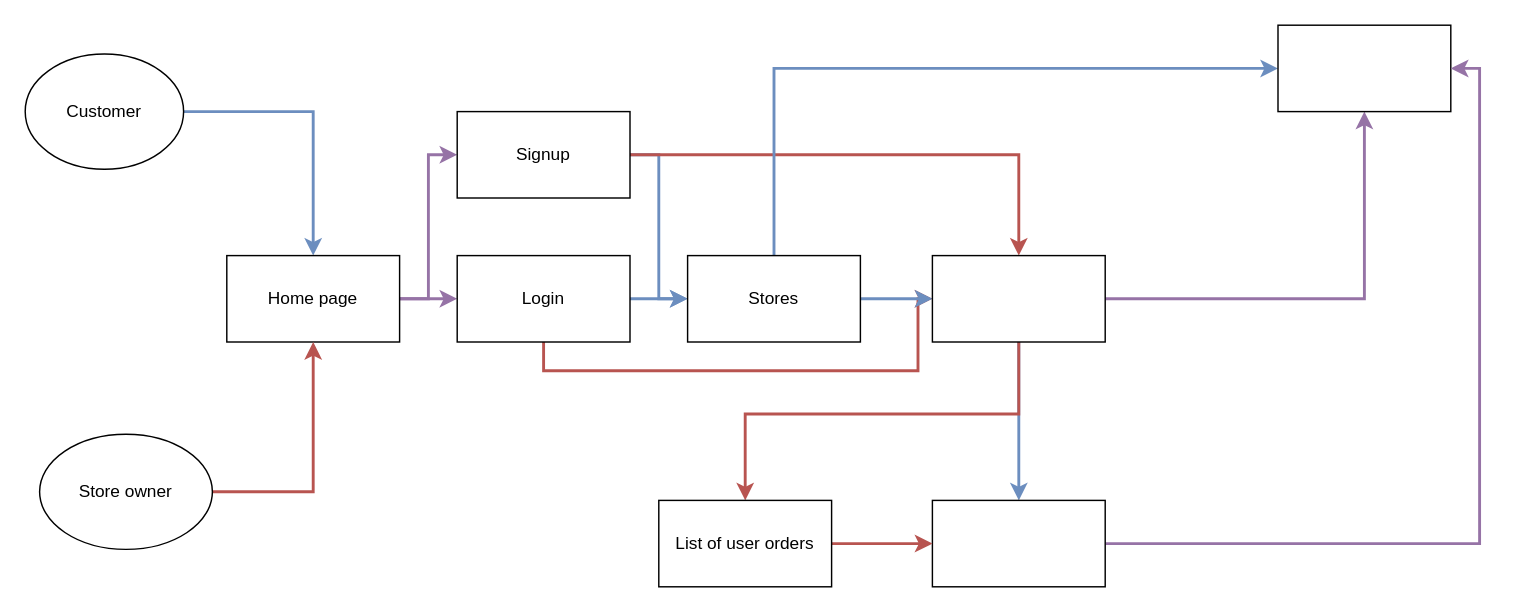
The diagram is 1518 pixels wide and 612 high, and some of its shapes have lost their labels. The box of each missing label's shape, as (x1, y1, x2, y2) in pixels:
Account: (1277, 24, 1451, 112)
Items: (931, 254, 1105, 342)
Order: (931, 499, 1105, 587)
